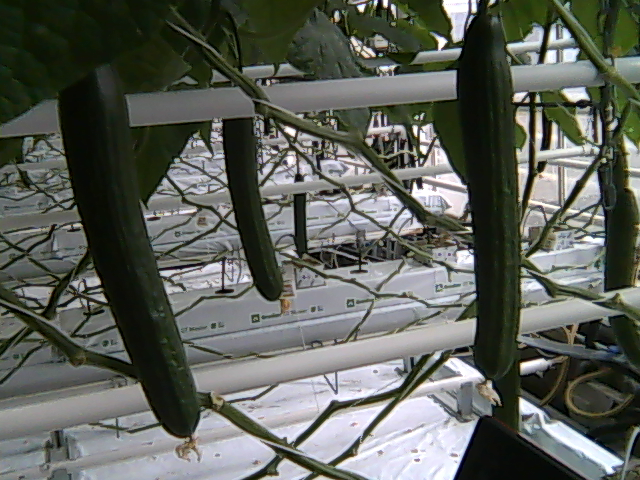concombre: (56, 62, 208, 456), (455, 1, 526, 407)
